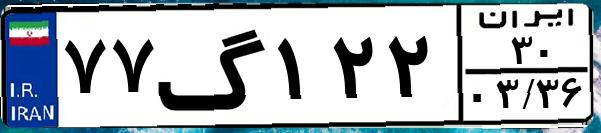0: (537, 27, 568, 80), (470, 70, 495, 125)
1: (270, 28, 330, 110)
2: (385, 28, 445, 110), (330, 28, 385, 110)
3: (508, 27, 537, 80), (495, 70, 520, 125), (535, 70, 560, 125)
6: (560, 70, 590, 125)
7: (57, 26, 110, 100), (110, 28, 156, 98)
گ: (156, 12, 270, 120)
